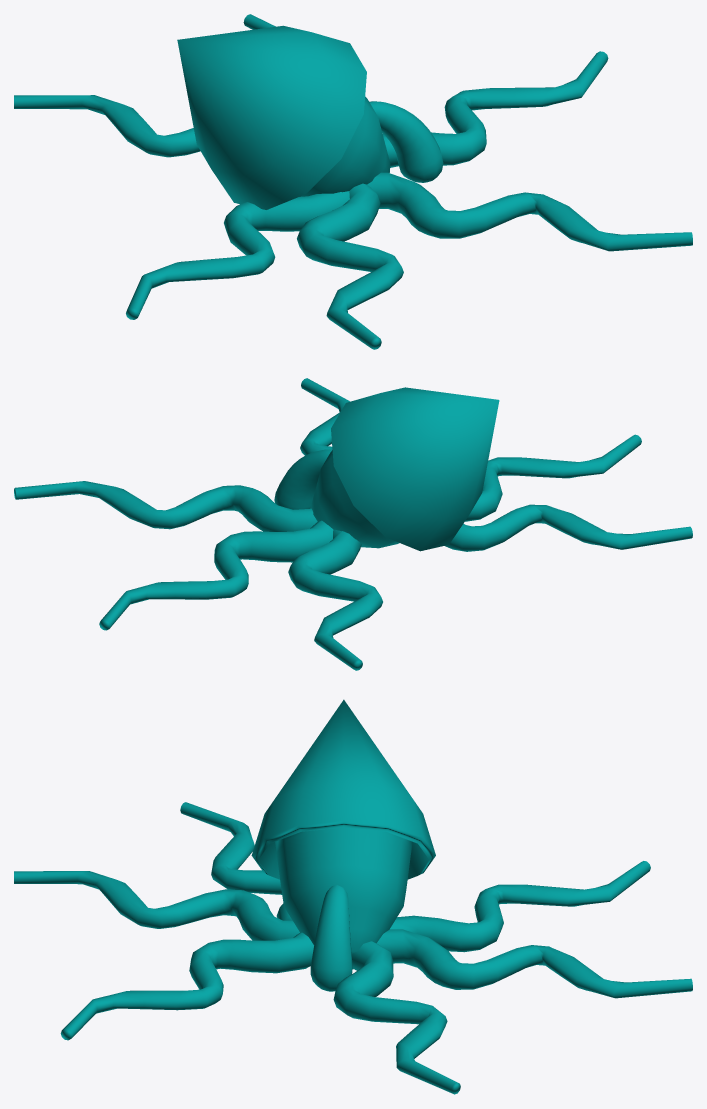
The model's file is Squidward.obj.
The picture shows the model from 3 angles, top to bottom: view 1: azimuth 30°, elevation 25°; view 2: azimuth 150°, elevation 25°; view 3: azimuth 270°, elevation 25°; orthographic projection. The views are drawn at different scales.
Visible parts, largest first — view 1: Squidward1 pCylinder17, Squidward1 pCylinder12, Squidward1 pCylinder11, Squidward1 pCylinder16, pCylinder13 Squidward1, Squidward1 pCylinder15, Squidward1 pSphere1; view 2: Squidward1 pCylinder17, pCylinder13 Squidward1, Squidward1 pCylinder14, Squidward1 pCylinder15, Squidward1 pCylinder16, Squidward1 pCylinder11, Squidward1 pSphere1, Squidward1 pCylinder12; view 3: Squidward1 pCylinder17, Squidward1 pCylinder14, Squidward1 pCylinder12, pCylinder13 Squidward1, Squidward1 pCylinder11, Squidward1 pCylinder15, Squidward1 pCylinder16, Squidward1 pSphere1.
Boxes of the visible parts, x1=… form: Squidward1 pCylinder17: x1=177, y1=25, x2=390, y2=209; Squidward1 pCylinder12: x1=367, y1=172, x2=692, y2=251; Squidward1 pCylinder11: x1=297, y1=183, x2=403, y2=349; Squidward1 pCylinder16: x1=126, y1=191, x2=349, y2=319; pCylinder13 Squidward1: x1=382, y1=51, x2=608, y2=167; Squidward1 pCylinder15: x1=14, y1=95, x2=200, y2=157; Squidward1 pSphere1: x1=369, y1=101, x2=443, y2=182; Squidward1 pCylinder17: x1=310, y1=387, x2=499, y2=551; pCylinder13 Squidward1: x1=14, y1=481, x2=317, y2=531; Squidward1 pCylinder14: x1=99, y1=520, x2=333, y2=630; Squidward1 pCylinder15: x1=288, y1=529, x2=382, y2=670; Squidward1 pCylinder16: x1=445, y1=504, x2=692, y2=551; Squidward1 pCylinder11: x1=465, y1=434, x2=641, y2=521; Squidward1 pSphere1: x1=274, y1=449, x2=332, y2=509; Squidward1 pCylinder12: x1=300, y1=378, x2=349, y2=455; Squidward1 pCylinder17: x1=251, y1=699, x2=435, y2=969; Squidward1 pCylinder14: x1=376, y1=929, x2=692, y2=998; Squidward1 pCylinder12: x1=60, y1=932, x2=313, y2=1040; pCylinder13 Squidward1: x1=333, y1=941, x2=460, y2=1094; Squidward1 pCylinder11: x1=14, y1=871, x2=299, y2=940; Squidward1 pCylinder15: x1=390, y1=861, x2=650, y2=952; Squidward1 pCylinder16: x1=180, y1=802, x2=292, y2=920; Squidward1 pSphere1: x1=310, y1=885, x2=352, y2=991.
Size of the model in its own units: 12.43 by 3.9 by 12.55.
